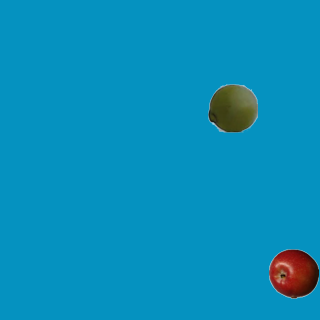Apple Braeburn: (268, 248, 318, 298)
Grape White 4: (207, 82, 257, 132)
